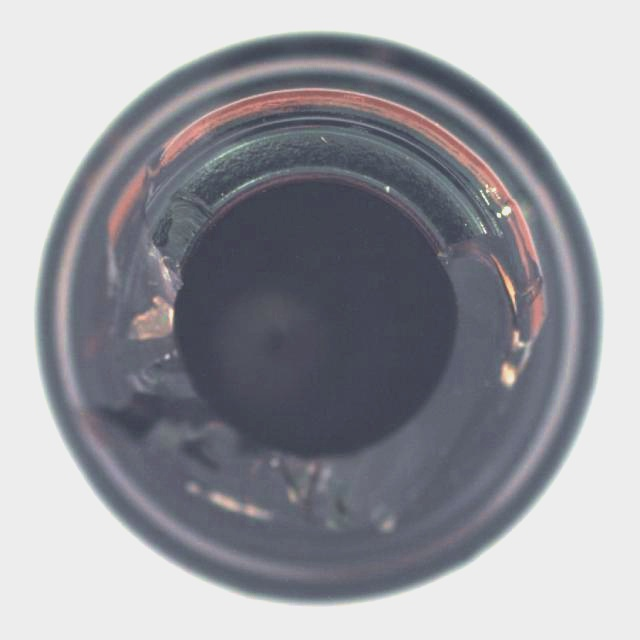bad-broken_large: (27, 28, 609, 612)
